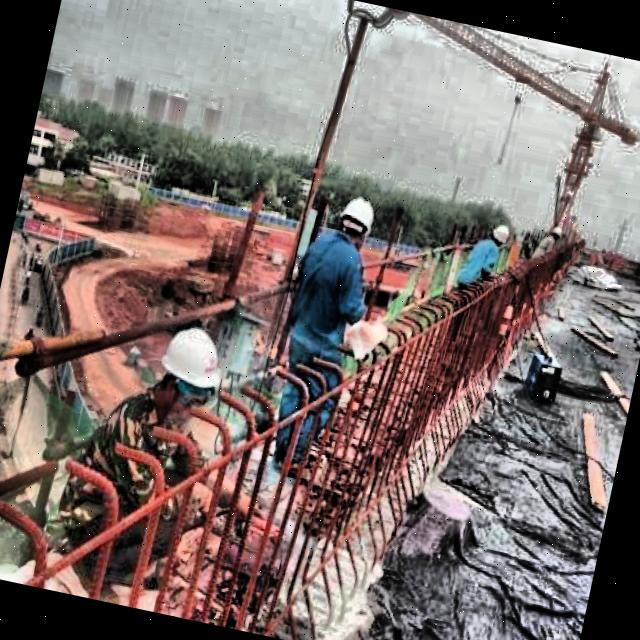helmet: (144, 320, 230, 420), (336, 194, 378, 246), (489, 220, 514, 247), (550, 223, 564, 241)
